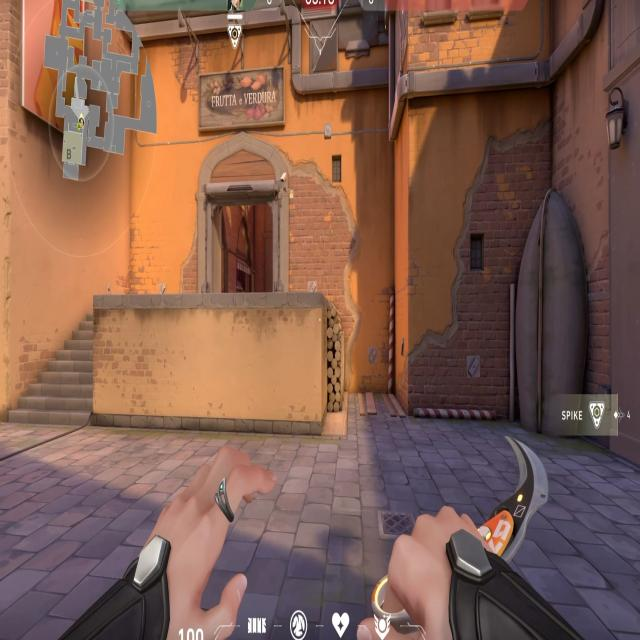B_Cubby: (314, 280, 409, 437)
